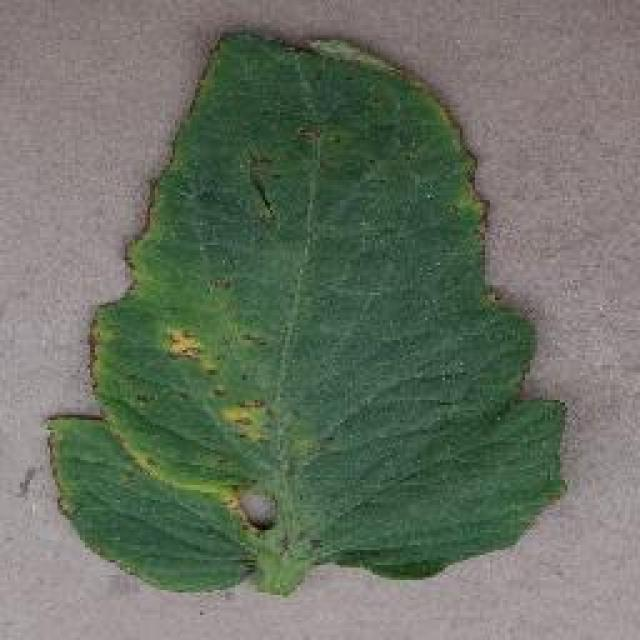Tomato bacterial spot leaf: (39, 24, 574, 598)
